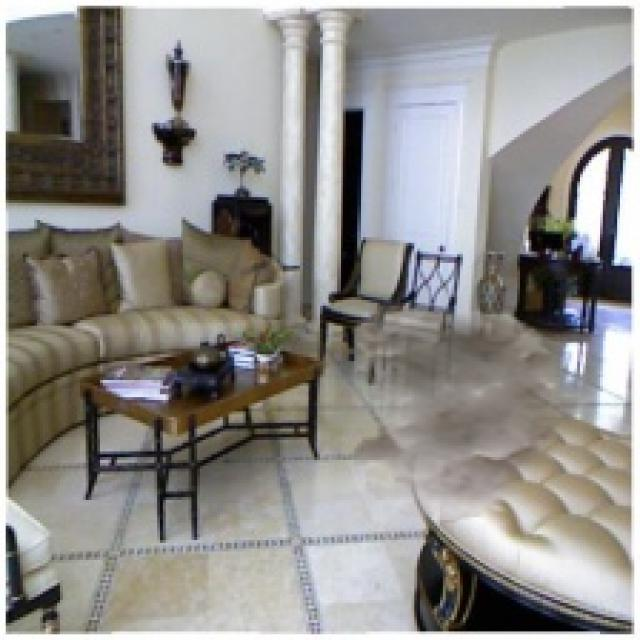smoke: (343, 300, 591, 523)
